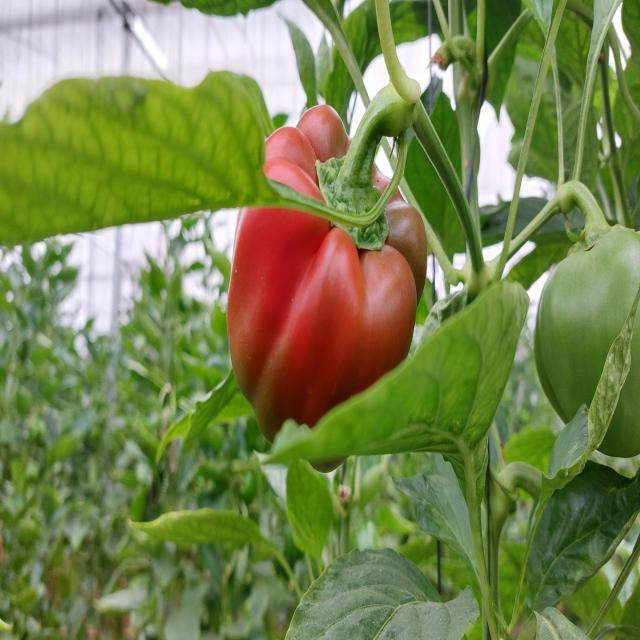Green--Not-ready-to-harvest: (517, 221, 640, 454)
Red-Ready-to-Harvest: (216, 113, 440, 450)
